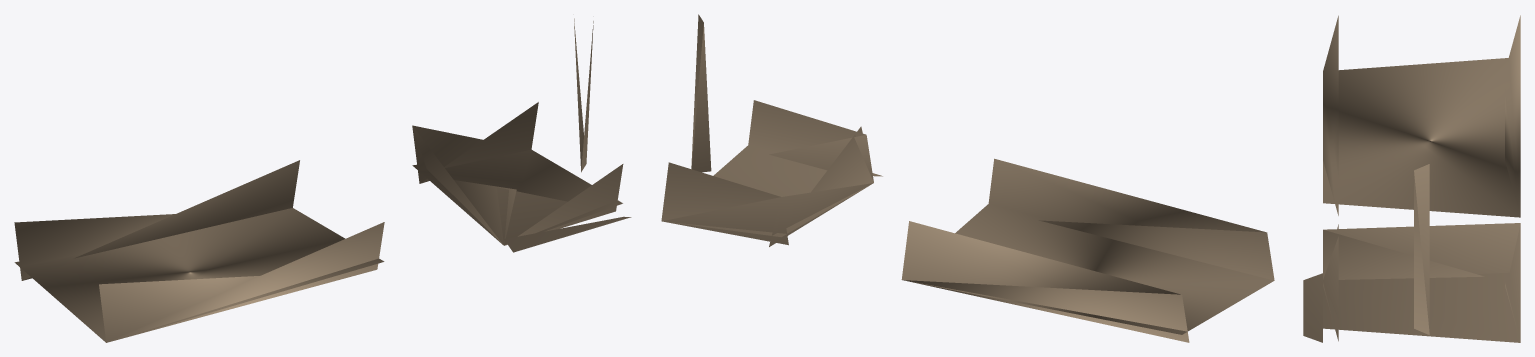
File: first-room.glb
3 renders of one model, left to right at view 1: azimuth 30°, elevation 25°; view 2: azimuth 150°, elevation 25°; view 3: azimuth 270°, elevation 25°, orthographic. The views are drawn at different scales.
Parts seen in each view (by area): view 1: first-room; view 2: first-room; view 3: first-room.
Boxes of the visible parts, x1,y1,x2,y2 form: first-room: (14,18,631,342); first-room: (661,14,1274,342); first-room: (1303,15,1520,342).
Bounding box in the file's own units: 26.64 × 8 × 8.8.
